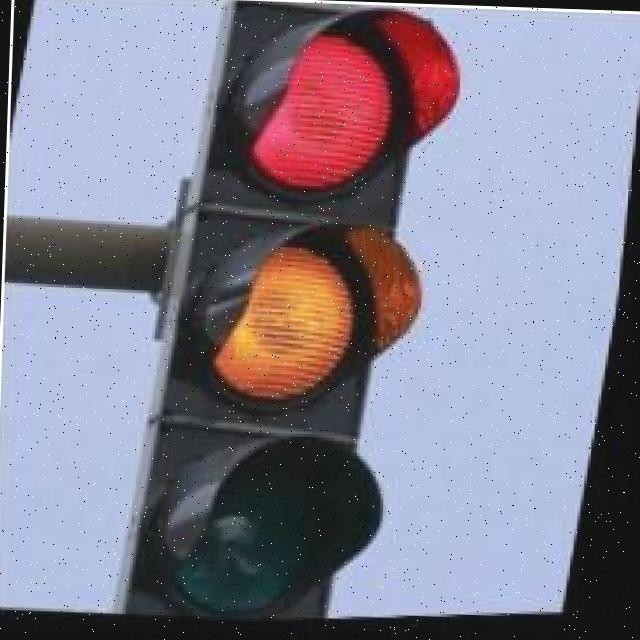red_light: (113, 0, 485, 636)
